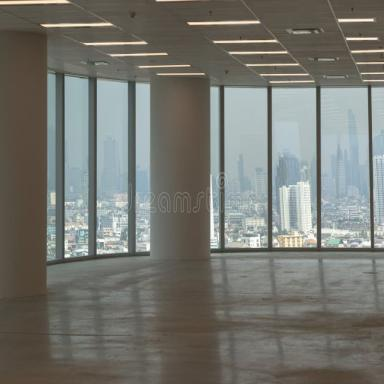glass_panel: (320, 87, 370, 247), (224, 87, 268, 247), (272, 88, 316, 247), (96, 80, 128, 253), (64, 75, 88, 257), (135, 83, 150, 251), (372, 87, 384, 247), (46, 73, 56, 260), (210, 86, 219, 248)
